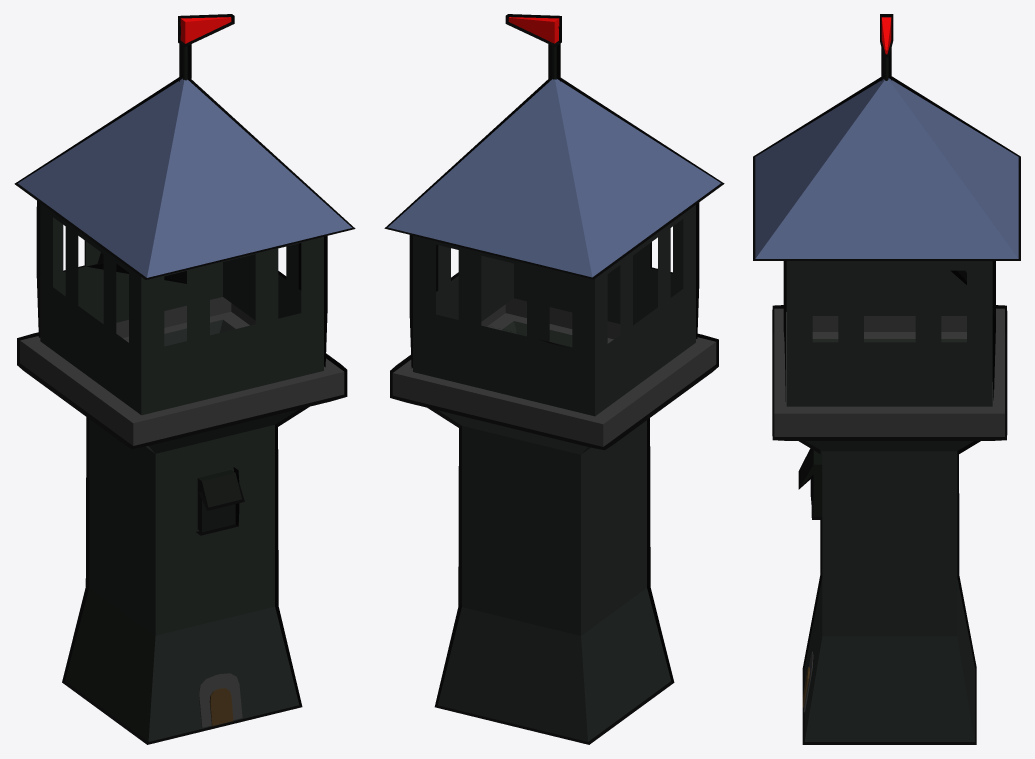
Rendered from Watctower.FBX.
3 views of the same model, side by side, from view 1: azimuth 30°, elevation 25°; view 2: azimuth 150°, elevation 25°; view 3: azimuth 270°, elevation 25° (orthographic). The views are drawn at different scales.
Parts seen in each view (by area): view 1: Box001; view 2: Box001; view 3: Box001.
Part boxes in pixels (x1,y1,x2,y2): Box001: [14, 14, 355, 744]; Box001: [384, 14, 724, 744]; Box001: [753, 14, 1020, 744].
Size of the model in its own units: 30.1 by 90.23 by 31.7.
